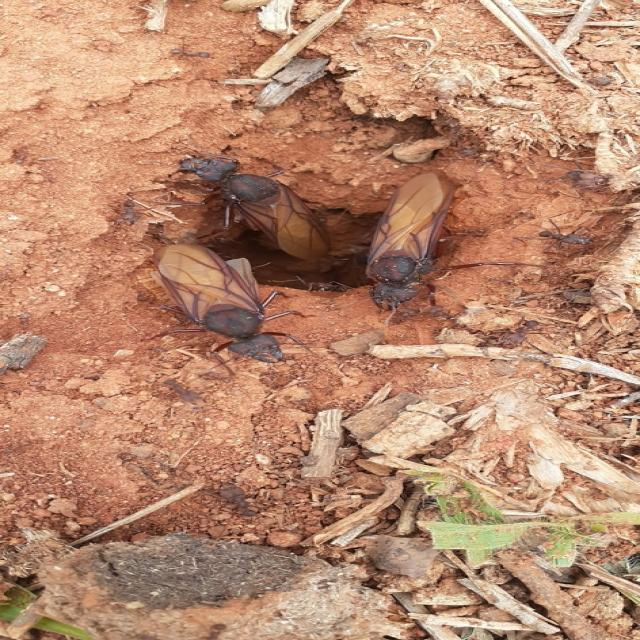Alive-Female-Alate: (341, 173, 548, 328), (140, 135, 332, 262), (152, 243, 321, 378)
